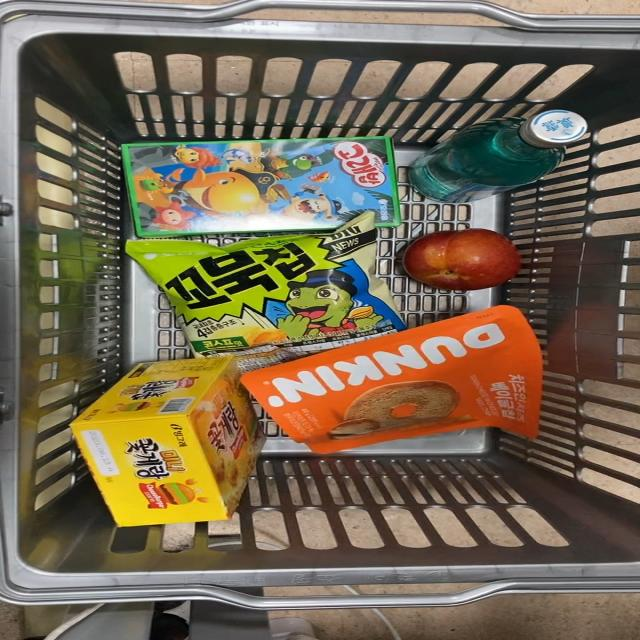cheesebagel: (244, 321, 560, 447)
ggobukchip: (114, 219, 386, 359)
goraebob: (116, 136, 404, 213)
jinro: (425, 113, 590, 212)
minicrab: (60, 362, 288, 528)
plum: (398, 222, 536, 298)
